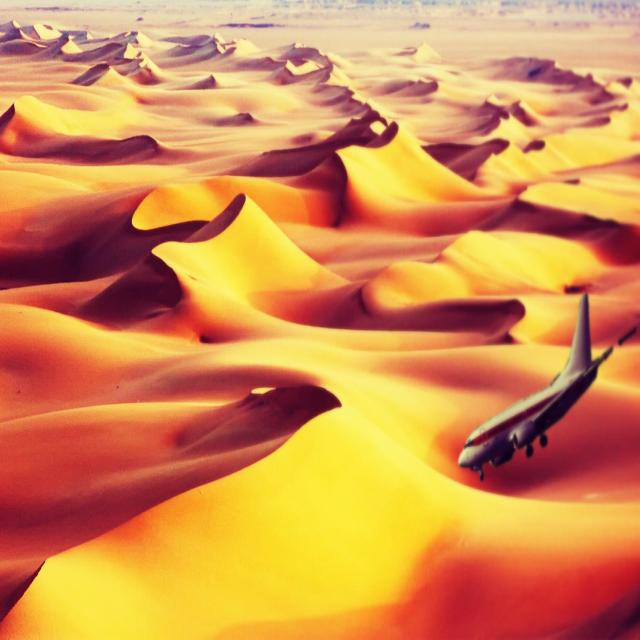airplane: (457, 290, 615, 482)
